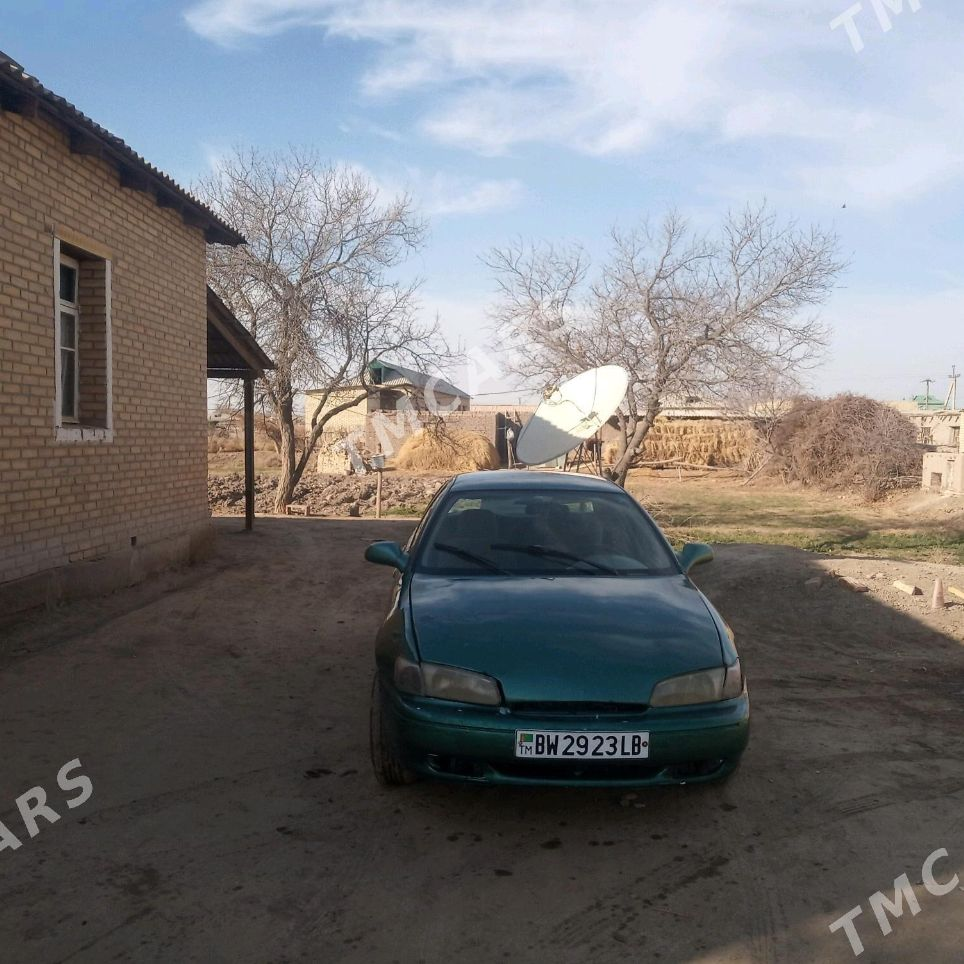license plate: (518, 730, 652, 758)
truck: (365, 469, 752, 792)
